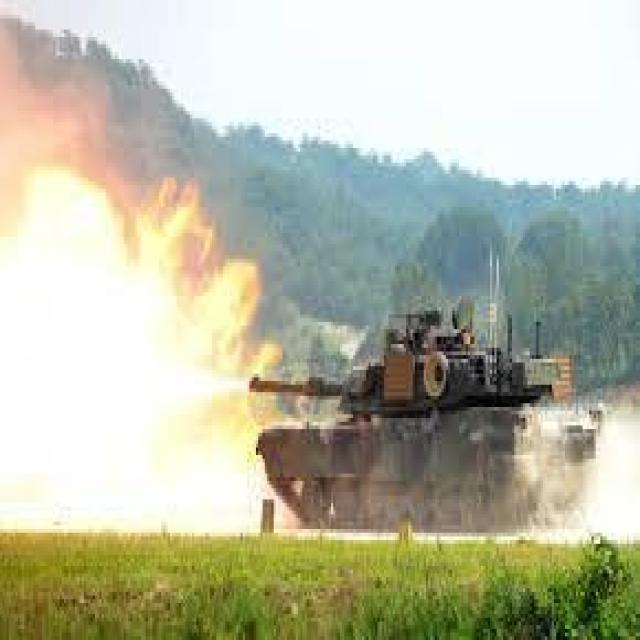Tanks: (236, 238, 620, 534)
